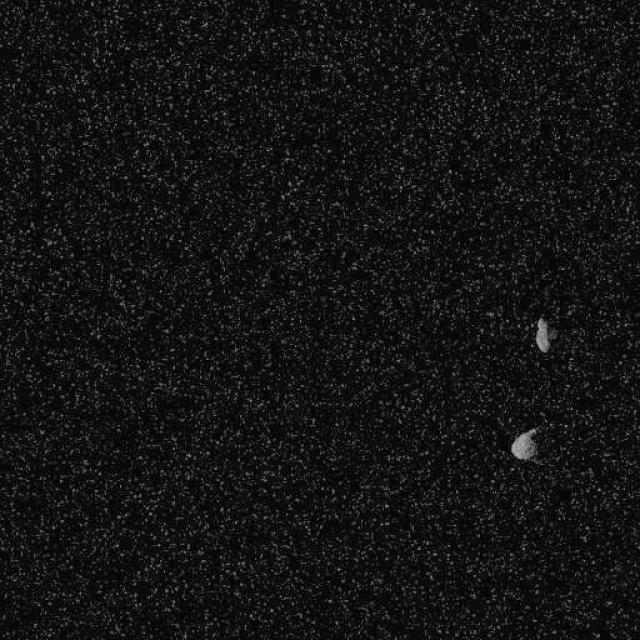D2: (510, 426, 539, 462), (534, 316, 551, 352)
